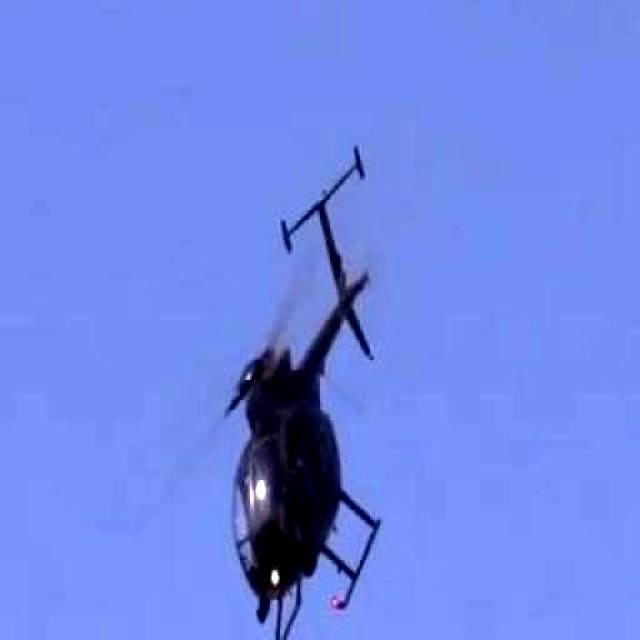drone: (125, 139, 485, 640)
